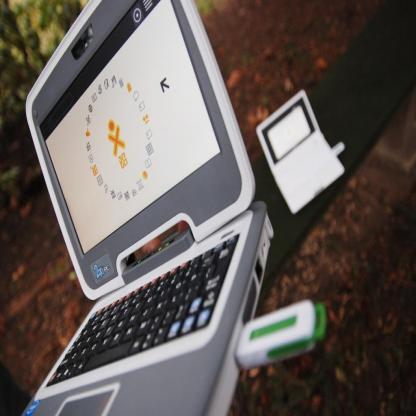board: (20, 1, 274, 416)
